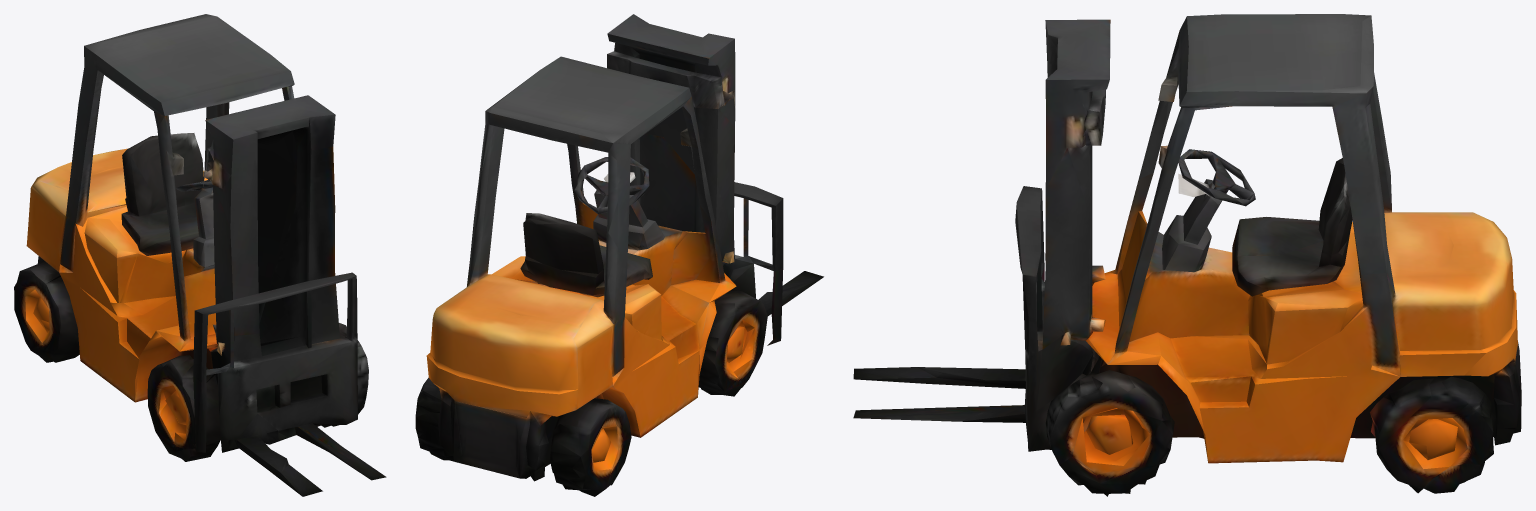
Rendered from forkliftTruck.glb.
3 renders of one model, left to right at view 1: azimuth 30°, elevation 25°; view 2: azimuth 150°, elevation 25°; view 3: azimuth 270°, elevation 25°, orthographic. The views are drawn at different scales.
Parts seen in each view (by area): view 1: model; view 2: model; view 3: model.
Boxes of the visible parts, x1=… form: model: x1=14, y1=14, x2=386, y2=496; model: x1=415, y1=14, x2=823, y2=496; model: x1=853, y1=14, x2=1521, y2=496.
Size of the model in its own units: 0.7099 by 1.25 by 1.89.
Materials: 1 (1 with a texture image).
